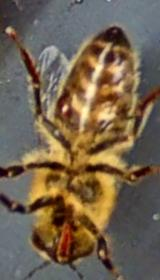varroa_mite: (49, 90, 78, 125)
